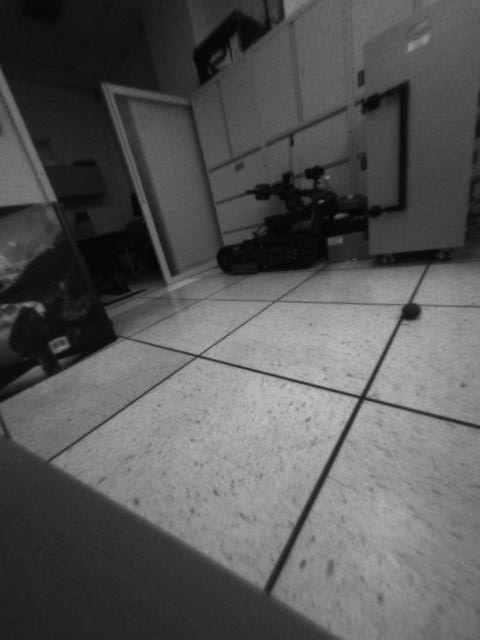dogtoy: (393, 292, 429, 324)
